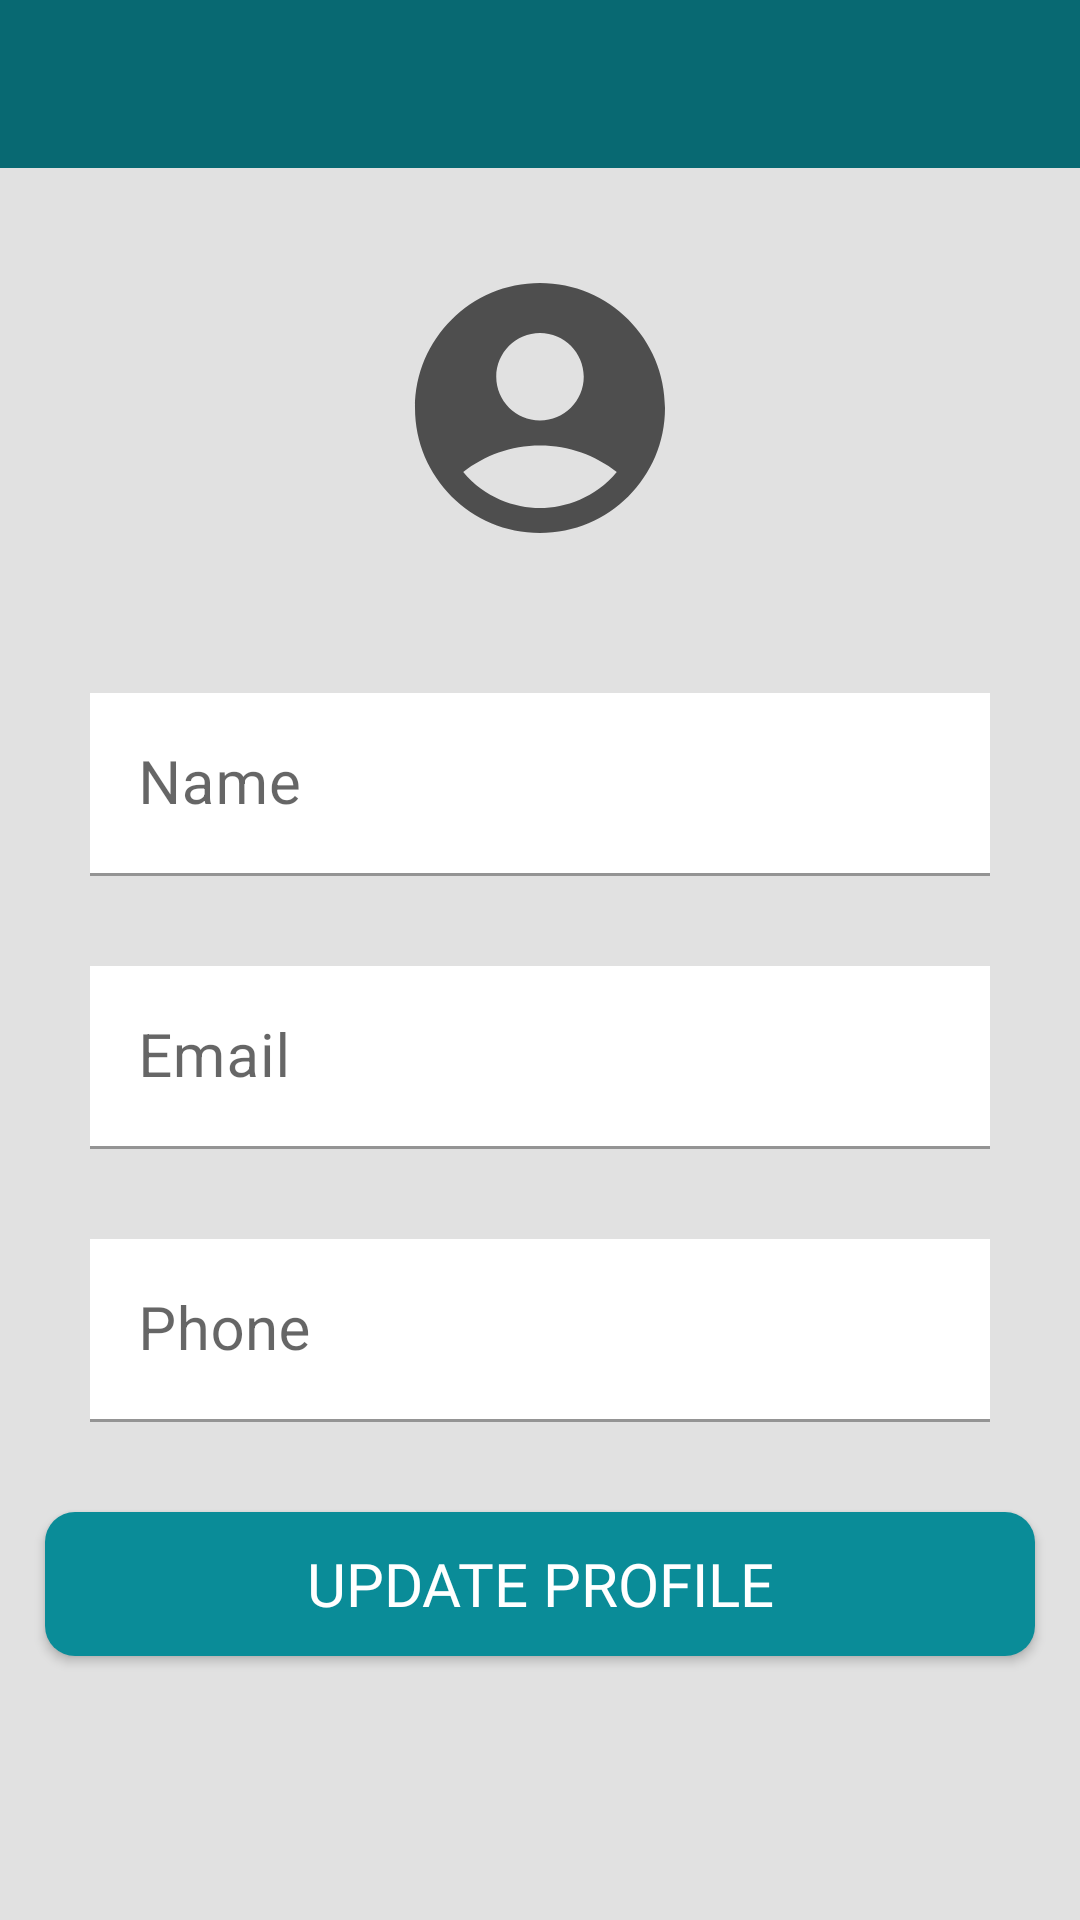

Named icons in this screenshot (1080x1920) and their bounding boxes, [x1=x1, y1=y1, x2=x2, y2=y2]:
account circle: [x1=415, y1=283, x2=665, y2=533]
